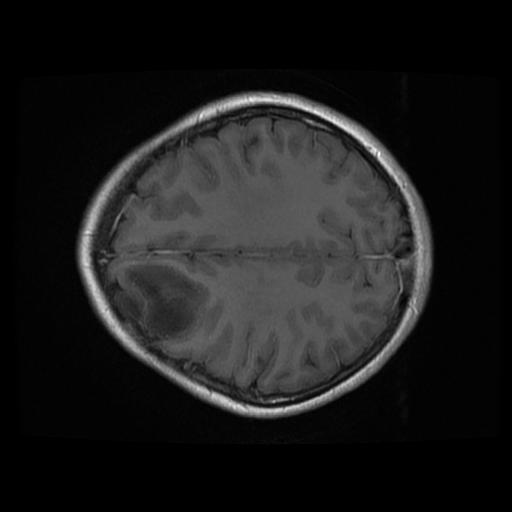glioma: (112, 260, 208, 350)
